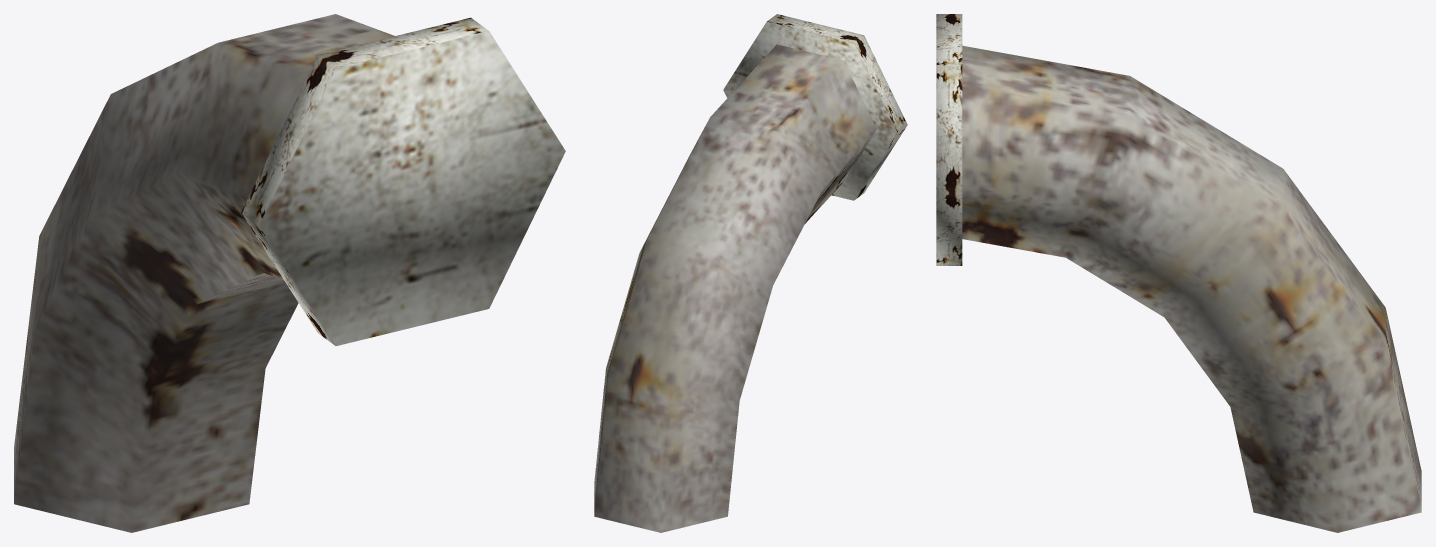
File: large_white_4_elbow.fbx
3 renders of one model, left to right at view 1: azimuth 30°, elevation 25°; view 2: azimuth 150°, elevation 25°; view 3: azimuth 270°, elevation 25°, orthographic. The views are drawn at different scales.
Visible parts, largest first — view 1: polySurface651; view 2: polySurface651; view 3: polySurface651.
Part boxes in pixels (x1,y1,x2,y2): polySurface651: [14, 14, 565, 532]; polySurface651: [594, 14, 907, 532]; polySurface651: [936, 14, 1421, 532].
Bounding box in the file's own units: 1.3 × 2.56 × 2.5.
